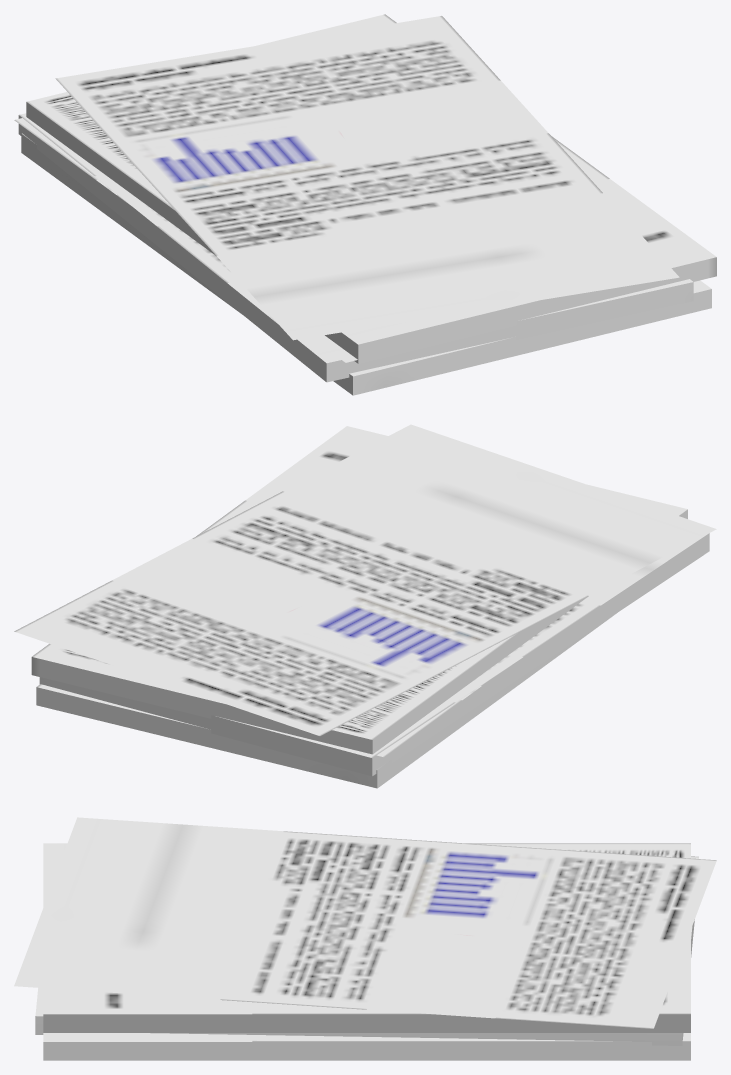
Rendered from document_stack_2.fbx.
3 renders of one model, top to bottom at view 1: azimuth 30°, elevation 25°; view 2: azimuth 150°, elevation 25°; view 3: azimuth 270°, elevation 25°, orthographic. The views are drawn at different scales.
Parts seen in each view (by area): view 1: document_stack_2; view 2: document_stack_2; view 3: document_stack_2.
Part boxes in pixels (bbox=[...]): document_stack_2: bbox=[14, 14, 716, 395]; document_stack_2: bbox=[14, 424, 716, 788]; document_stack_2: bbox=[14, 817, 716, 1060].
Size of the model in its own units: 23.86 by 2.73 by 33.5.
